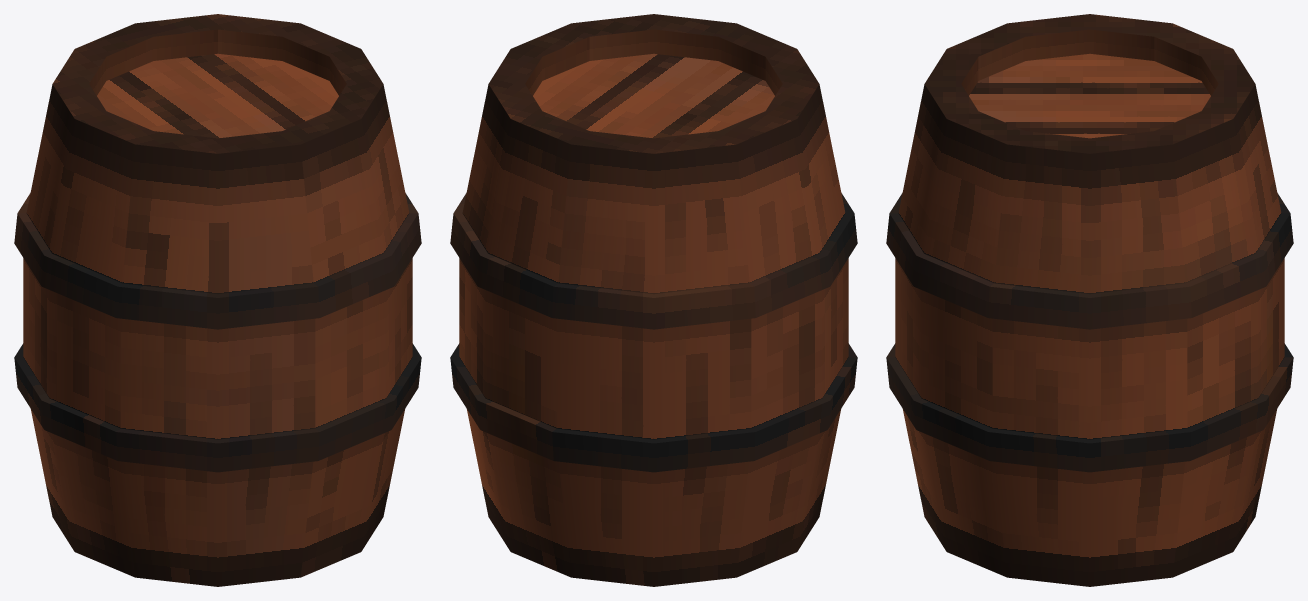
File: mdl_barrel.fbx
3 views of the same model, side by side, from view 1: azimuth 30°, elevation 25°; view 2: azimuth 150°, elevation 25°; view 3: azimuth 270°, elevation 25° (orthographic).
Visible parts, largest first — view 1: Barril; view 2: Barril; view 3: Barril.
Boxes of the visible parts, x1,y1,x2,y2 form: Barril: [14, 14, 421, 586]; Barril: [450, 14, 857, 586]; Barril: [886, 14, 1293, 586].
Bounding box in the file's own units: 0.1439 × 0.1688 × 0.1439.
